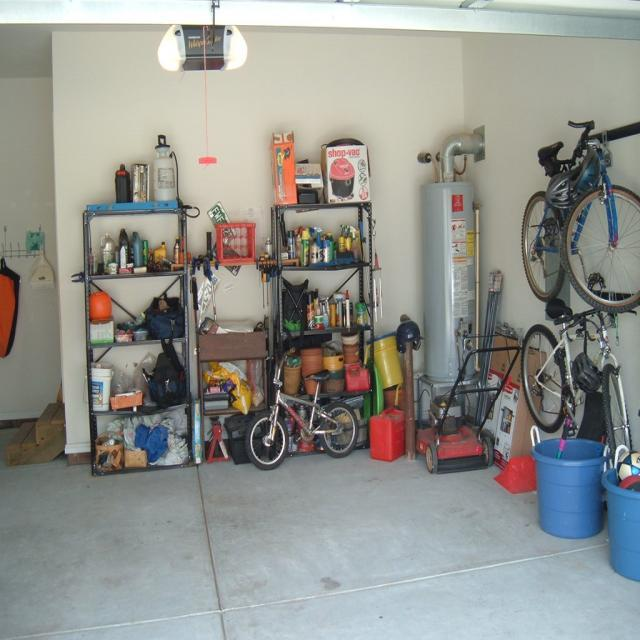car: (520, 102, 638, 349), (520, 296, 632, 474), (245, 350, 358, 469)
